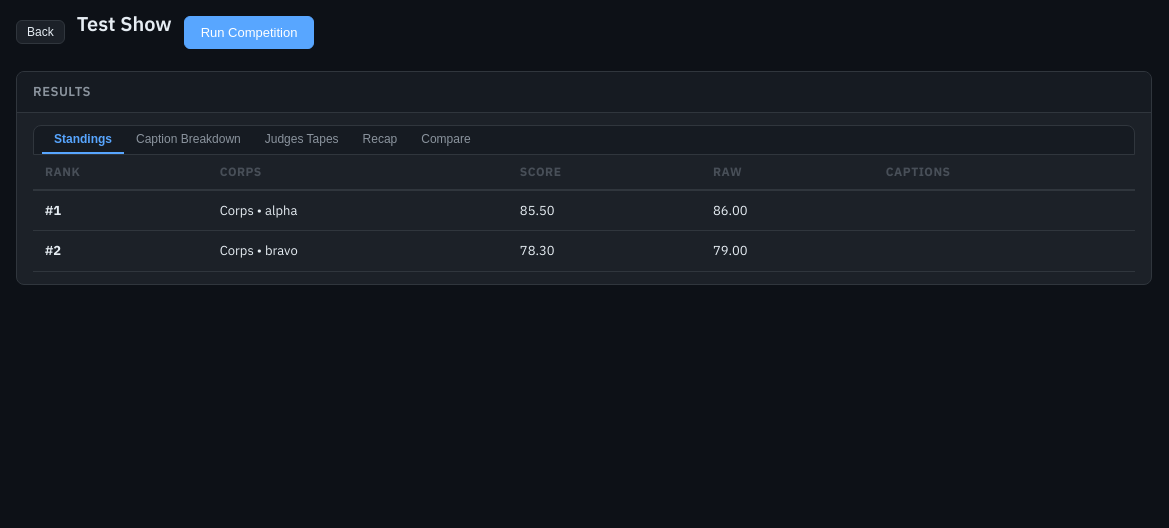
Test: CompetitionDetail › shows compare tab with two corps
The width and height of the screenshot is (1169, 528).
What coordinates should you click on to do the following:
click the button "Compare"
I would click on:
 (446, 140)
Its box is [409,126,483,154].
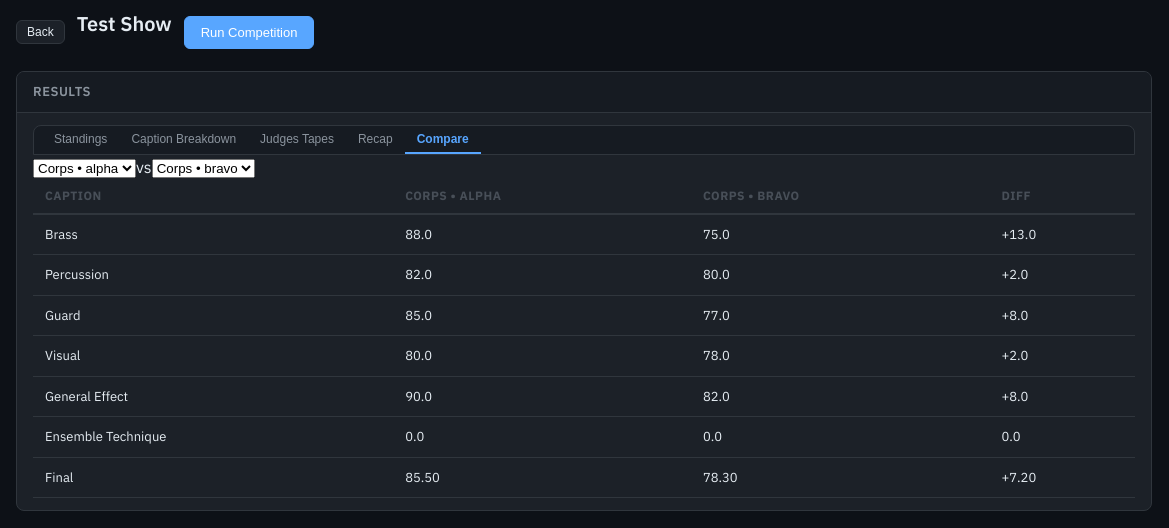
Now the text "vs" is shown, box [136,156,152,176]
